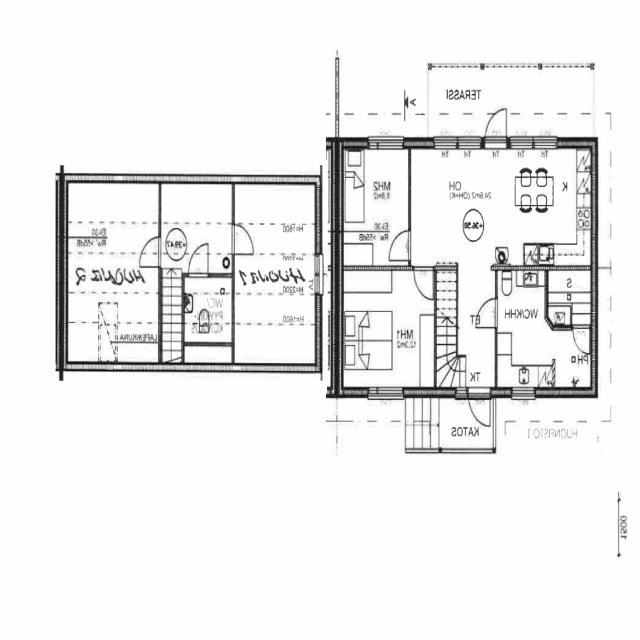door: (485, 104, 507, 149), (468, 388, 489, 430), (389, 231, 412, 260), (476, 298, 498, 328), (138, 236, 160, 266), (188, 244, 208, 277), (414, 266, 433, 300), (232, 224, 254, 253), (574, 326, 590, 356)
